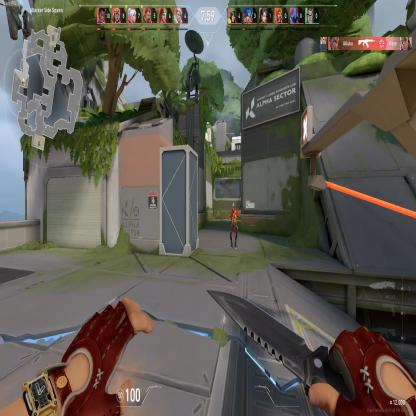enemy: (228, 201, 238, 251)
